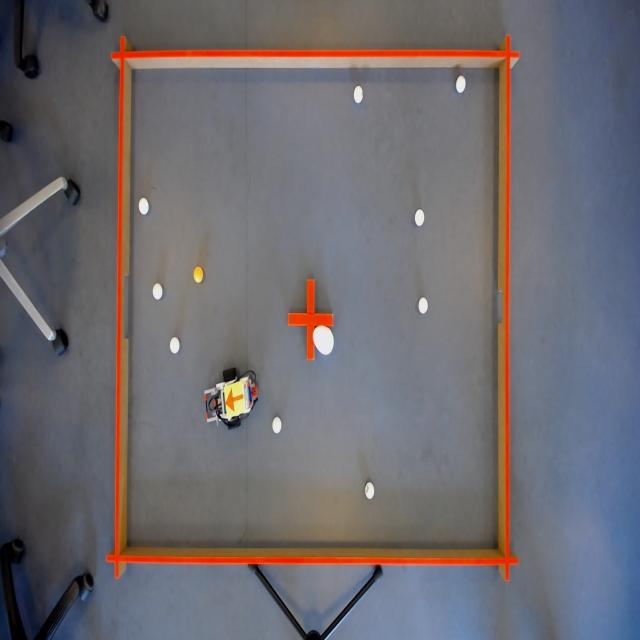cross: (287, 276, 335, 363)
egg: (312, 323, 335, 357)
orange_ball: (191, 262, 206, 286)
robot: (222, 380, 248, 421)
white_ball: (453, 73, 468, 97), (270, 413, 284, 437), (417, 293, 430, 317), (352, 82, 364, 107), (138, 194, 150, 218), (364, 479, 376, 502), (151, 281, 163, 304), (168, 336, 181, 357), (413, 207, 426, 228)
